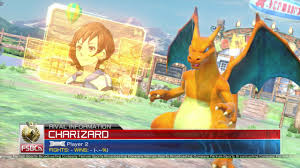charizard: (150, 6, 300, 167)
